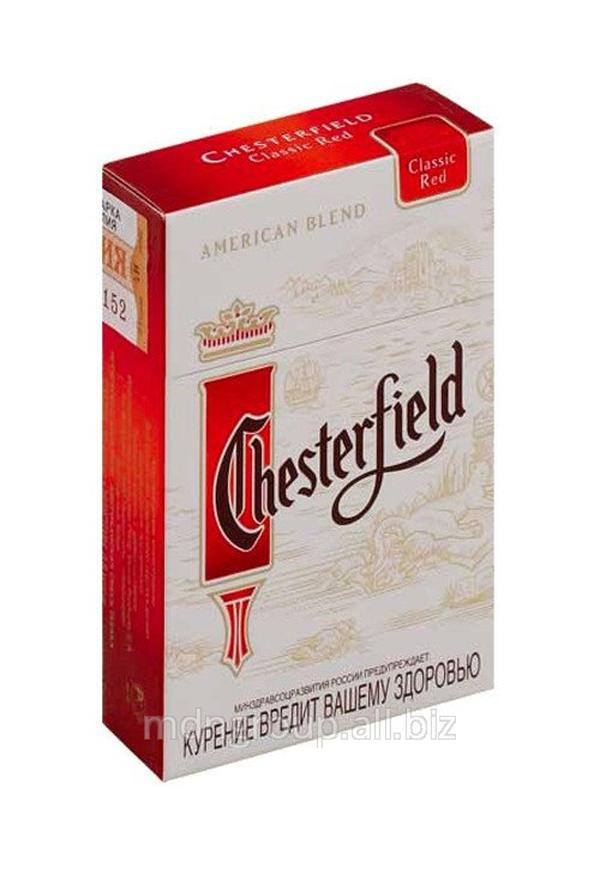chesterfield_red: (164, 211, 491, 696)
